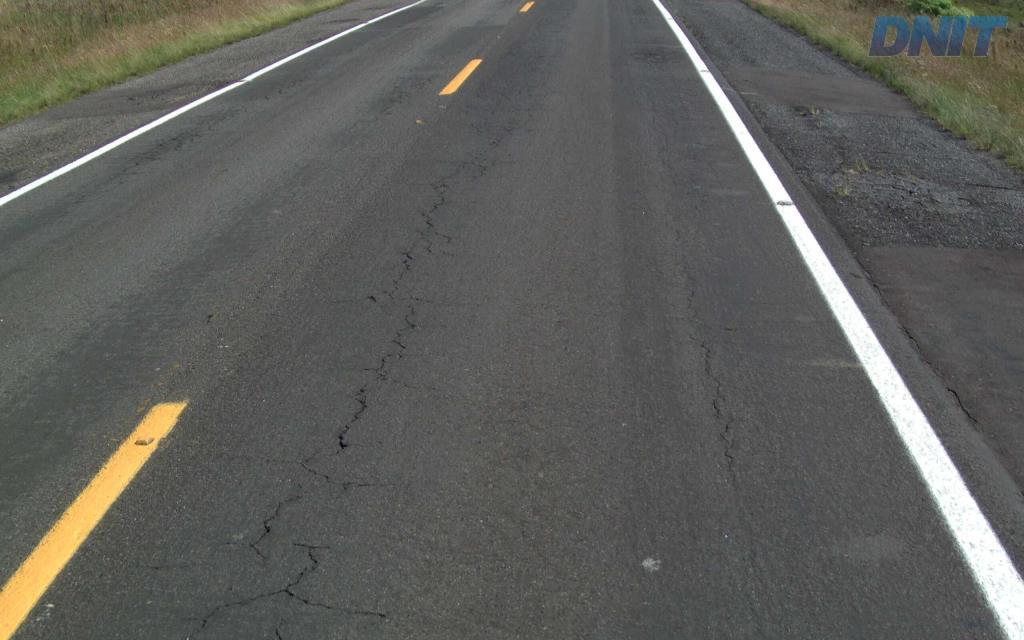crack: (267, 542, 322, 606)
